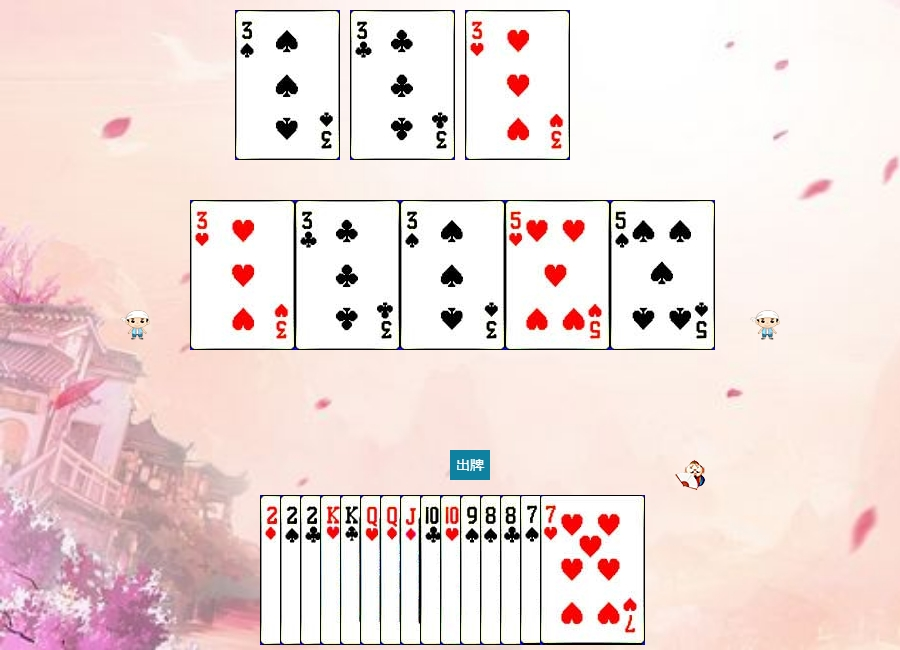10~2: (420, 495, 525, 645)
10~3: (440, 495, 545, 645)
11~1: (400, 495, 505, 645)
12~1: (380, 495, 485, 645)
12~3: (360, 495, 465, 645)
13~2: (340, 495, 445, 645)
13~3: (320, 495, 425, 645)
15~1: (260, 495, 365, 645)
15~2: (300, 495, 405, 645)
15~4: (280, 495, 385, 645)
3~2: (350, 10, 455, 160), (295, 200, 400, 350)
3~3: (465, 10, 570, 160), (190, 200, 295, 350)
3~4: (235, 10, 340, 160), (400, 200, 505, 350)
5~3: (505, 200, 610, 350)
5~4: (610, 200, 715, 350)
7~3: (540, 495, 645, 645)
7~4: (520, 495, 625, 645)
8~2: (500, 495, 605, 645)
8~4: (480, 495, 585, 645)
9~4: (460, 495, 565, 645)
